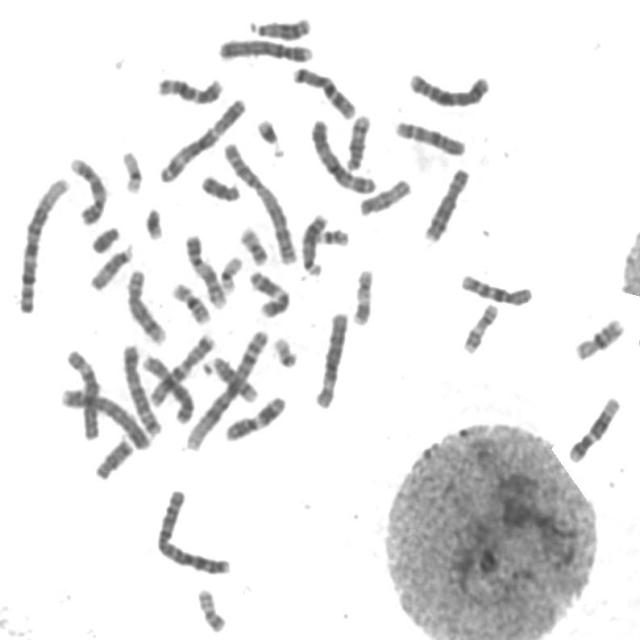A1: (180, 321, 272, 453), (13, 171, 71, 315)
A2: (219, 136, 300, 266), (150, 484, 234, 577)
A3: (154, 91, 250, 184), (305, 112, 379, 195)
B4: (55, 382, 153, 452), (214, 32, 315, 64)
B5: (118, 337, 164, 438), (404, 65, 492, 108)
C10: (390, 114, 468, 158), (456, 268, 536, 307)
C11: (220, 390, 288, 443), (244, 265, 292, 319)
C12: (564, 391, 623, 464), (151, 70, 225, 105)
C6: (308, 306, 351, 410), (61, 342, 103, 442)
C7: (144, 327, 218, 408), (287, 60, 358, 120)
C8: (419, 162, 472, 244), (121, 263, 168, 346)
C9: (180, 228, 229, 310), (64, 151, 109, 227)
D13: (296, 208, 330, 278), (244, 10, 313, 40)
D14: (202, 350, 260, 404), (341, 108, 372, 174)
D15: (84, 238, 134, 293), (354, 172, 413, 218)
E16: (569, 312, 626, 362), (166, 276, 214, 326)
E17: (458, 298, 500, 356), (348, 262, 376, 328)
E18: (90, 431, 134, 482), (195, 168, 242, 203)
F19: (116, 144, 144, 196), (215, 250, 244, 295)
F20: (192, 582, 228, 634), (234, 221, 271, 266)
G21: (251, 112, 288, 159), (140, 201, 166, 242)
G22: (268, 331, 300, 369), (314, 223, 352, 248)
X: (137, 350, 195, 426)
Y: (86, 220, 122, 254)
